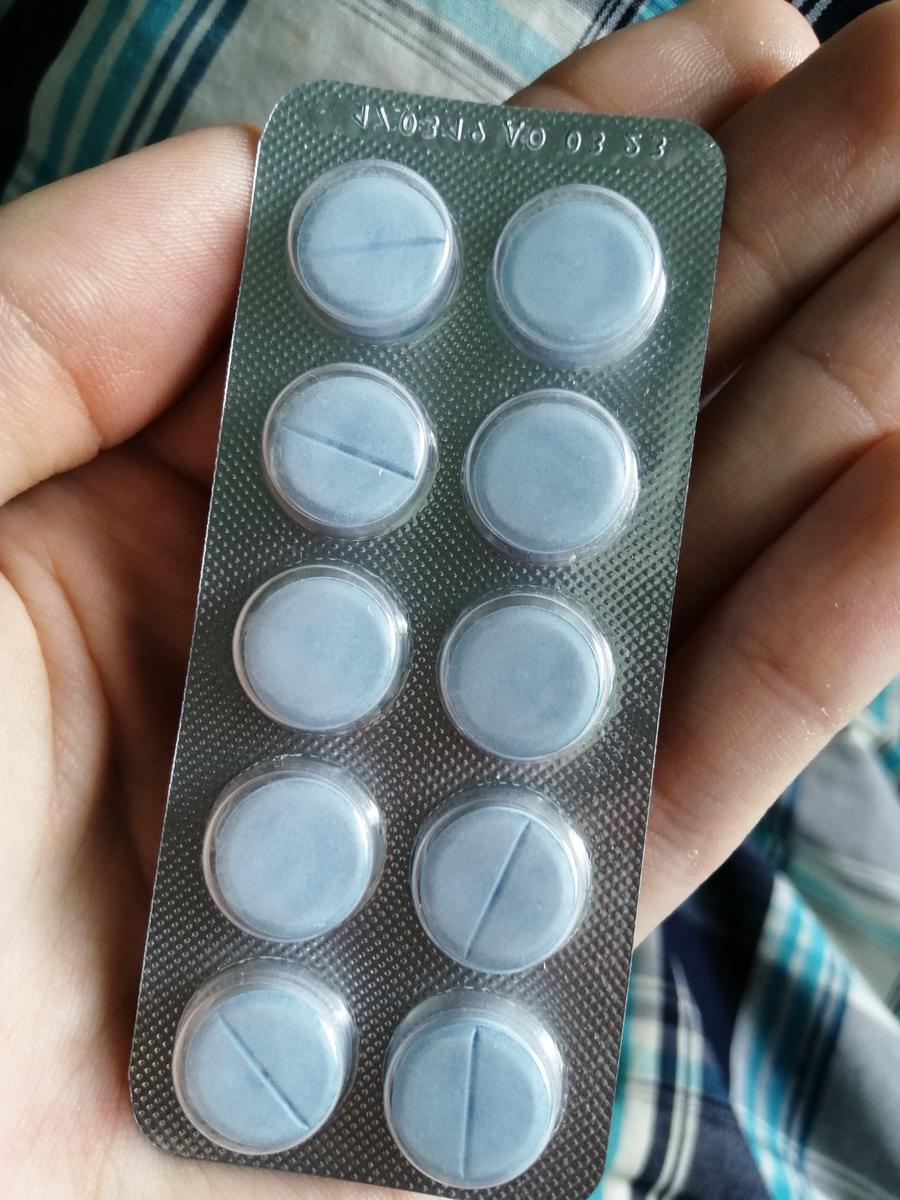tablet: (169, 962, 350, 1162), (379, 1000, 569, 1181), (224, 557, 413, 734), (409, 798, 590, 981), (465, 385, 641, 570), (207, 764, 377, 936), (265, 364, 431, 540), (288, 162, 454, 334), (441, 598, 609, 766), (494, 194, 660, 362)
